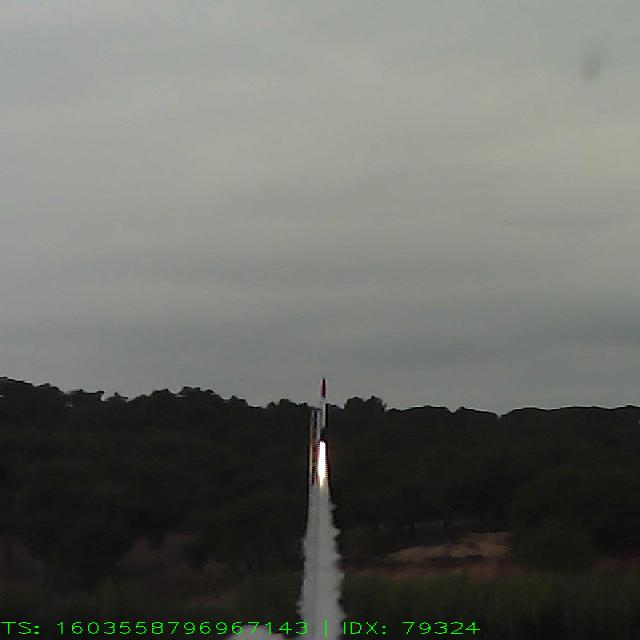Rocket: (316, 377, 328, 442)
